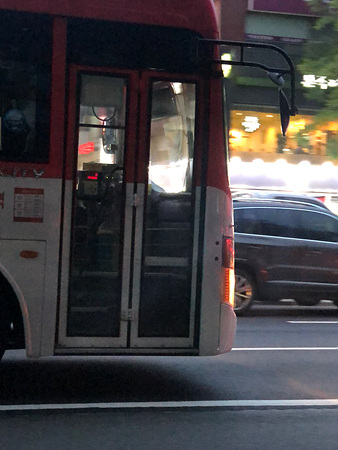entrance: (67, 65, 205, 349)
